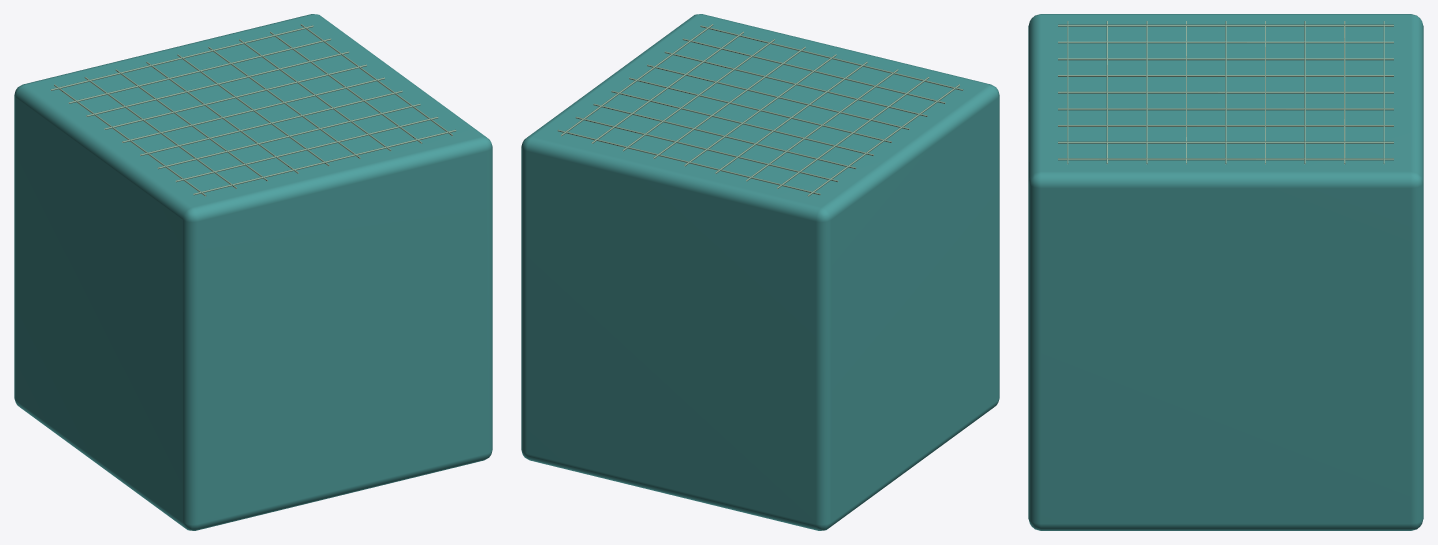
The model's file is prop_mat.glb.
3 views of the same model, side by side, from view 1: azimuth 30°, elevation 25°; view 2: azimuth 150°, elevation 25°; view 3: azimuth 270°, elevation 25° (orthographic). The views are drawn at different scales.
Visible parts, largest first — view 1: Cutting mat rubber, Mat grid Z, Mat grid Z.001, Mat grid Z.002, Mat grid Z.006, Mat grid Z.004, Mat grid Z.007, Mat grid Z.005, Mat grid Z.008, Mat grid Z.003; view 2: Cutting mat rubber, Mat grid Z.002, Mat grid Z.006, Mat grid Z.008, Mat grid Z.007, Mat grid Z.003, Mat grid Z.001, Mat grid Z, Mat grid Z.004, Mat grid Z.005; view 3: Cutting mat rubber, Mat grid X, Mat grid X.007, Mat grid X.004, Mat grid X.001, Mat grid X.002, Mat grid X.005, Mat grid X.008, Mat grid X.003, Mat grid X.006.
Boxes of the visible parts, box(x1,y1,x2,y2) form: Cutting mat rubber: box(14, 14, 492, 530); Mat grid Z: box(50, 25, 313, 90); Mat grid Z.001: box(68, 38, 331, 103); Mat grid Z.002: box(86, 51, 349, 116); Mat grid Z.006: box(157, 103, 420, 169); Mat grid Z.004: box(122, 77, 384, 142); Mat grid Z.007: box(175, 116, 438, 182); Mat grid Z.005: box(140, 90, 402, 155); Mat grid Z.008: box(193, 129, 456, 195); Mat grid Z.003: box(104, 64, 366, 129); Cutting mat rubber: box(521, 14, 999, 530); Mat grid Z.002: box(593, 103, 856, 169); Mat grid Z.006: box(664, 51, 927, 116); Mat grid Z.008: box(700, 25, 963, 90); Mat grid Z.007: box(682, 38, 945, 103); Mat grid Z.003: box(611, 90, 873, 155); Mat grid Z.001: box(575, 116, 838, 182); Mat grid Z: box(557, 129, 820, 195); Mat grid Z.004: box(629, 77, 891, 142); Mat grid Z.005: box(647, 64, 909, 129); Cutting mat rubber: box(1028, 14, 1423, 530); Mat grid X: box(1058, 24, 1393, 26); Mat grid X.007: box(1058, 141, 1393, 143); Mat grid X.004: box(1058, 91, 1393, 93); Mat grid X.001: box(1058, 41, 1393, 43); Mat grid X.002: box(1058, 58, 1393, 60); Mat grid X.005: box(1058, 108, 1393, 110); Mat grid X.008: box(1058, 158, 1393, 160); Mat grid X.003: box(1058, 75, 1393, 76); Mat grid X.006: box(1058, 125, 1393, 126).
Size of the model in its own units: 0.02 by 0.0201 by 0.02.
